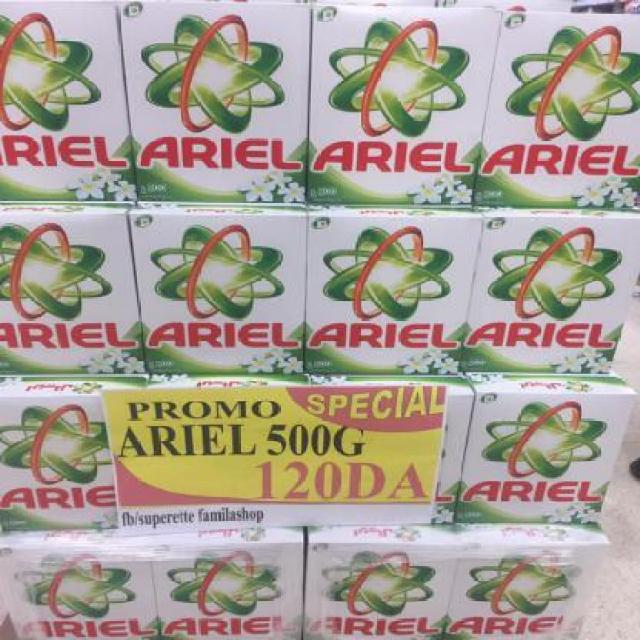Detergent: (121, 0, 302, 206), (308, 3, 477, 203), (478, 9, 639, 203), (136, 209, 304, 380), (309, 202, 471, 375), (0, 0, 134, 205), (472, 211, 628, 377), (469, 368, 620, 523), (0, 211, 137, 378), (0, 368, 115, 536), (456, 515, 598, 640), (306, 521, 453, 640), (153, 528, 305, 640), (0, 532, 151, 639)
